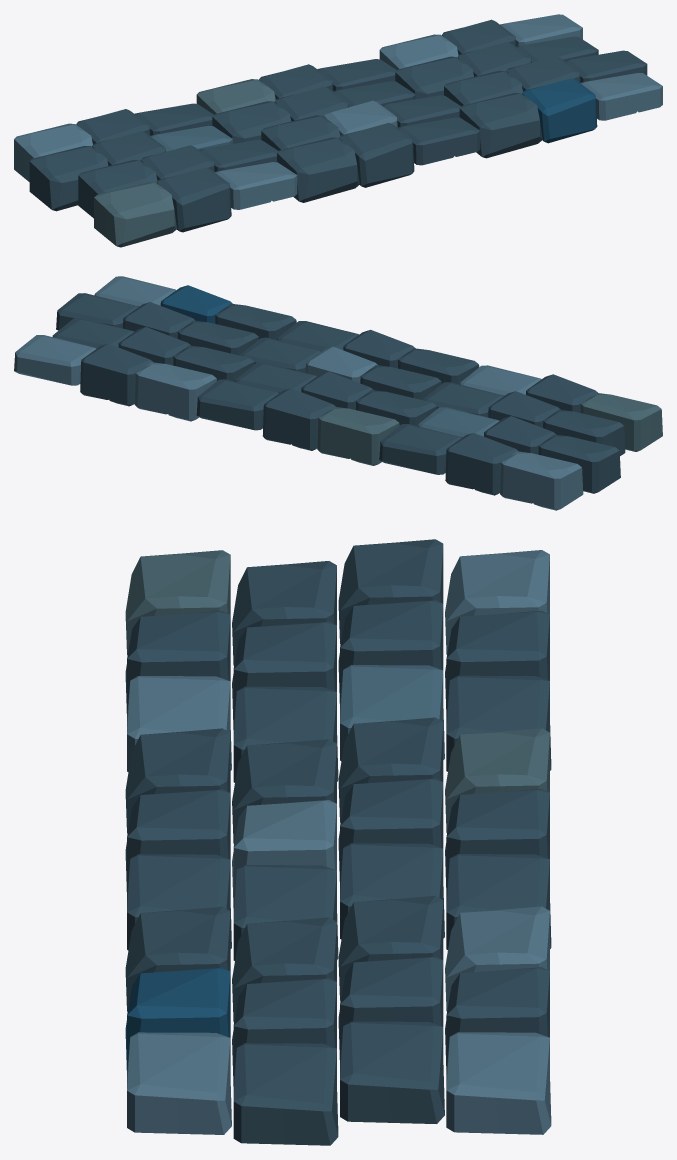
Rendered from wall01.fbx.
The picture shows the model from 3 angles, top to bottom: view 1: azimuth 30°, elevation 25°; view 2: azimuth 150°, elevation 25°; view 3: azimuth 270°, elevation 25°; orthographic projection. The views are drawn at different scales.
Visible parts, largest first — view 1: stone-brick04.001; view 2: stone-brick04.001; view 3: stone-brick04.001.
Part boxes in pixels (<box>): stone-brick04.001: <box>14,14,662,247</box>; stone-brick04.001: <box>14,276,662,510</box>; stone-brick04.001: <box>125,539,551,1145</box>.
Size of the model in its own units: 1845 by 119 by 597.
